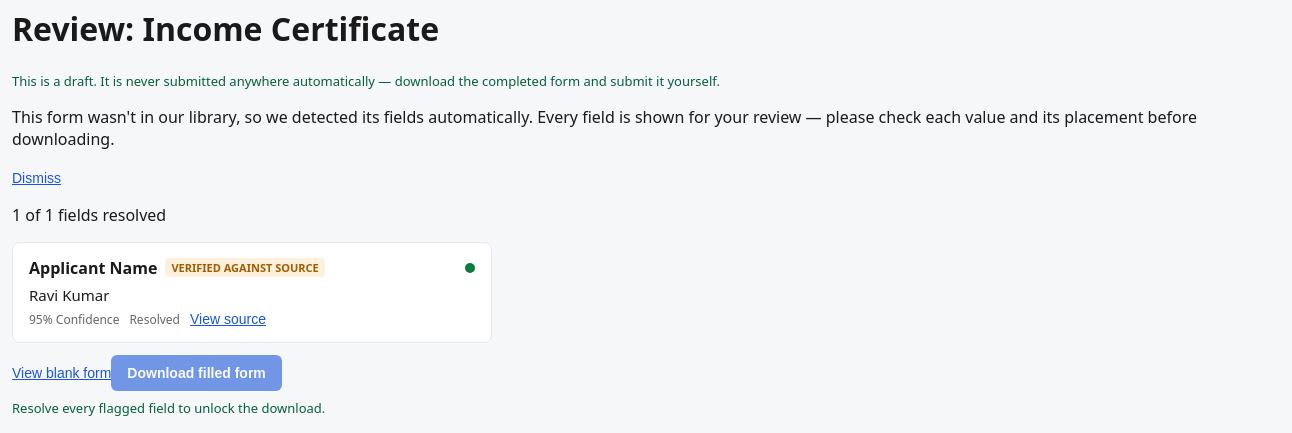
Review page › shows the inferred-form notice when schema_source is inferred, and can dismiss it
Expected: the element with test id "inferred-form-notice" is shown, [12,106,1291,188]
Click the button "Dismiss": (36, 178) [12,170,61,186]
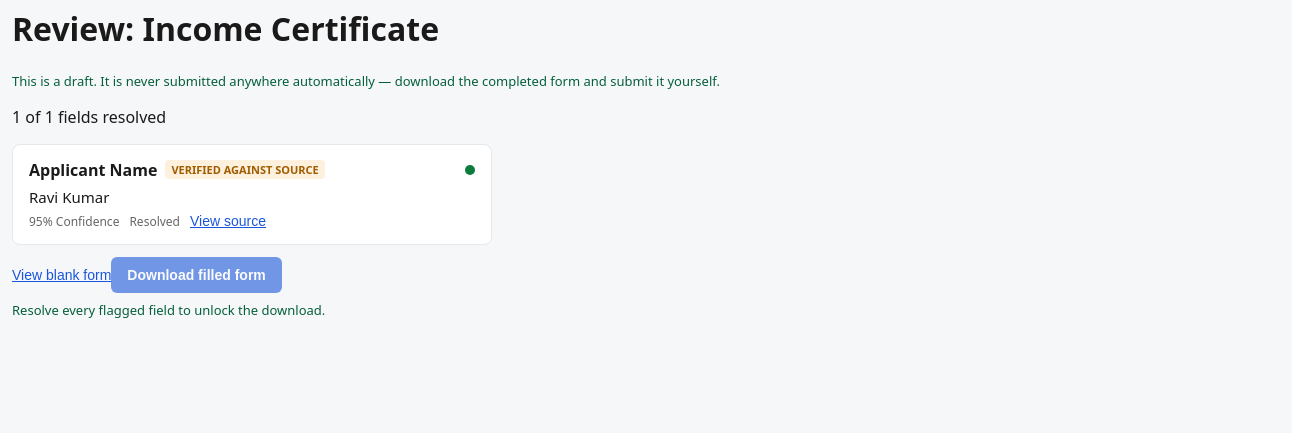
Result: the element with test id "inferred-form-notice" is gone
